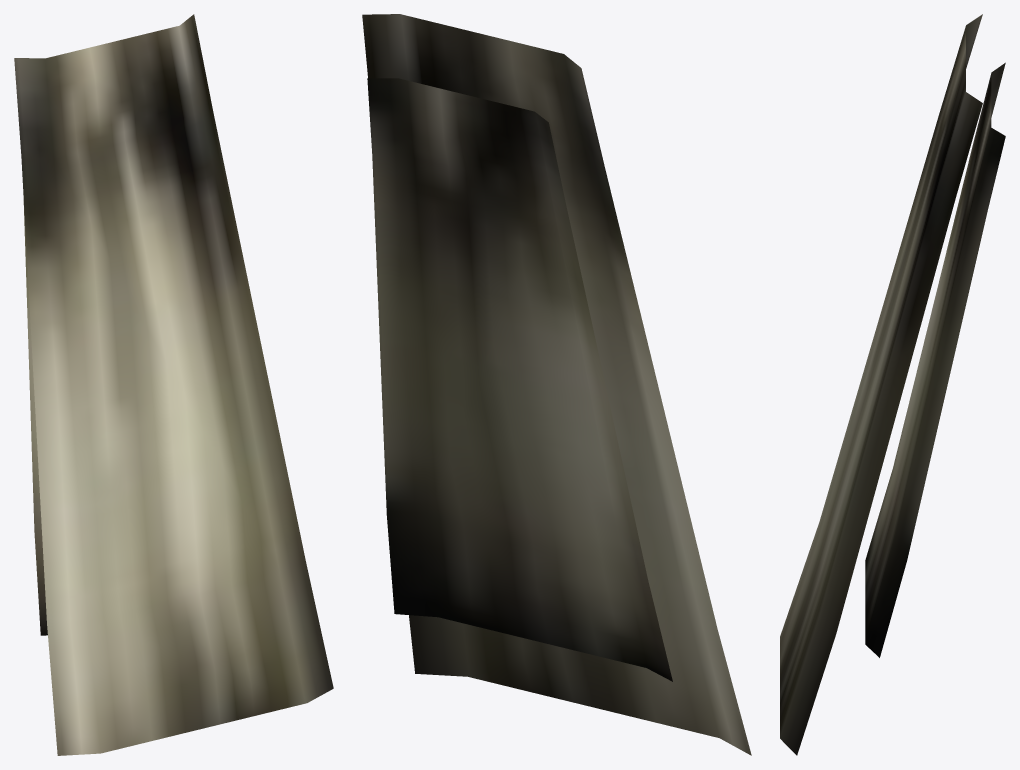
The model's file is pir_m_efx_chr_blockShield.fbx.
The picture shows the model from 3 angles, left to right: view 1: azimuth 30°, elevation 25°; view 2: azimuth 150°, elevation 25°; view 3: azimuth 270°, elevation 25°; orthographic projection. The views are drawn at different scales.
Parts seen in each view (by area): view 1: shield, shield1; view 2: shield1, shield; view 3: shield, shield1.
Boxes of the visible parts, x1,y1,x2,y2 form: shield: (14, 14, 333, 755); shield1: (23, 201, 47, 635); shield1: (367, 78, 672, 681); shield: (362, 14, 751, 755); shield: (780, 14, 982, 755); shield1: (865, 62, 1005, 657).
Size of the model in its own units: 262 by 561 by 183.
Materials: 1 (1 with a texture image).
